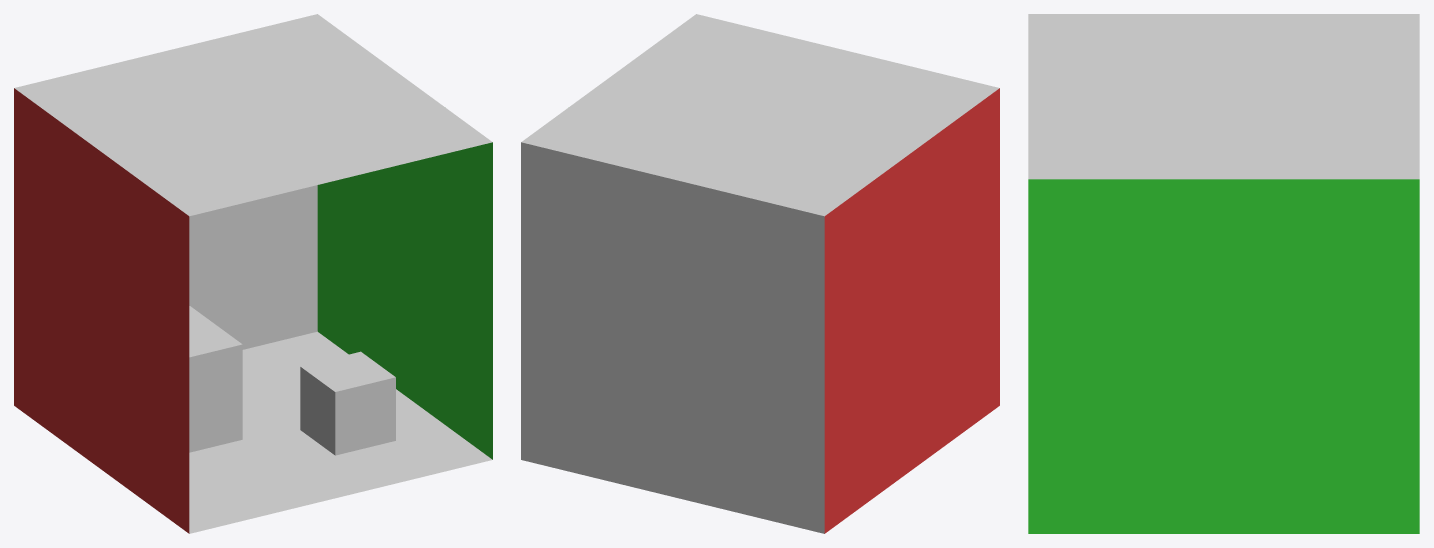
Rendered from cornell.glb.
3 renders of one model, left to right at view 1: azimuth 30°, elevation 25°; view 2: azimuth 150°, elevation 25°; view 3: azimuth 270°, elevation 25°, orthographic. The views are drawn at different scales.
Parts seen in each view (by area): view 1: MurGauche, Plafond, MurDroit, Sol, MurFond, CubeB, CubeA; view 2: MurFond, MurGauche, Plafond; view 3: MurDroit, Plafond.
Boxes of the visible parts, x1,y1,x2,y2 form: MurGauche: [14, 88, 189, 533]; Plafond: [14, 14, 492, 216]; MurDroit: [317, 142, 492, 459]; Sol: [189, 331, 492, 533]; MurFond: [189, 185, 317, 349]; CubeB: [300, 351, 395, 455]; CubeA: [189, 306, 242, 452]; MurFond: [521, 142, 824, 533]; MurGauche: [824, 88, 999, 533]; Plafond: [521, 14, 999, 216]; MurDroit: [1028, 179, 1419, 533]; Plafond: [1028, 14, 1419, 179].
Size of the model in its own units: 4 by 4 by 4.
